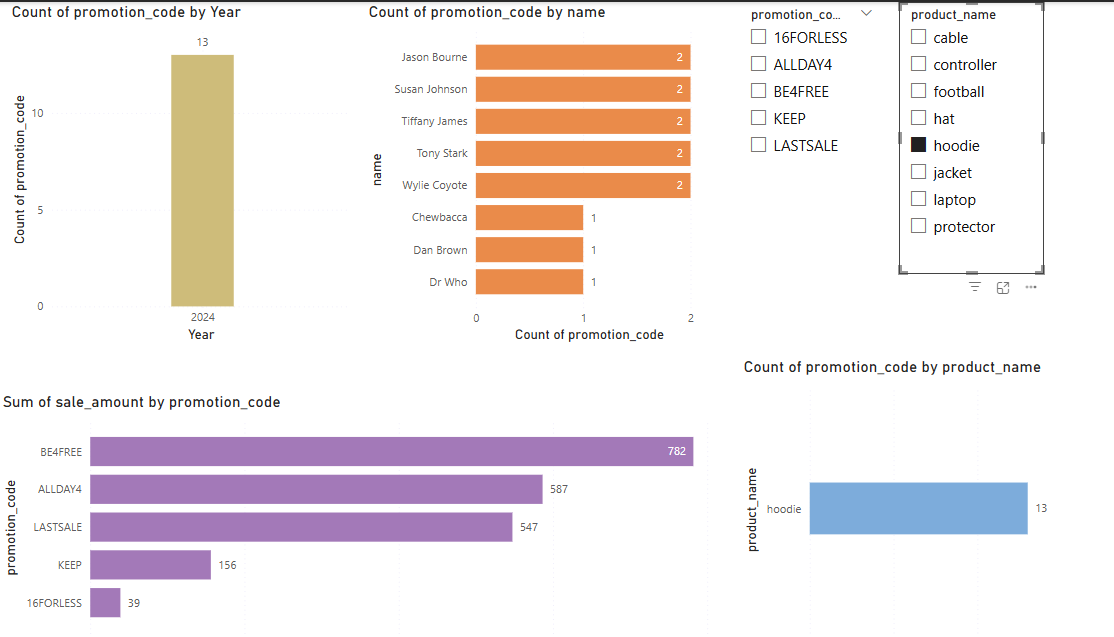

Layout of this report page (visuals, bound fields, positions):
{"tool":"powerbi","page":{"name":"P6 and Promotion Codes","canvas":[1280,720],"ordinal":0},"visuals":[{"type":"columnChart","fields":{"Category":["sale.Year_dt.Variation.Date Hierarchy.Year","sale.Quarter_dt.Variation.Date Hierarchy.Quarter","sale.month_name_dt.Variation.Date Hierarchy.Month","sale.month_name_dt.Variation.Date Hierarchy.Day"],"Y":["CountNonNull(sale.promotion_code)"]},"box":[9.7,0,372.5,369.6],"z":0},{"type":"clusteredBarChart","fields":{"Category":["sale.promotion_code"],"Y":["Sum(sale.sale_amount)"]},"box":[0,418.4,788.3,301.1],"z":1000},{"type":"clusteredBarChart","fields":{"Category":["customer.name"],"Y":["CountNonNull(sale.promotion_code)"]},"box":[393,0,373,370],"z":2000},{"type":"clusteredBarChart","fields":{"Category":["product.product_name"],"Y":["CountNonNull(sale.promotion_code)"]},"box":[794.7,381.3,344.3,338.5],"z":3000},{"type":"slicer","fields":{"Values":["sale.promotion_code"]},"box":[794.7,0,155.6,176],"z":4000},{"type":"slicer","fields":{"Values":["product.product_name"]},"box":[966.5,0,155.6,292.1],"z":5000}]}

Visuals, with their boxes in screenshot pixels (x1, y1, x2, y2), scaled from the page's 1280x720 canvas onto the 1114x637 screenshot:
columnChart - sale.Year_dt.Variation.Date Hierarchy.Year x sale.Quarter_dt.Variation.Date Hierarchy.Quarter: 8, 0, 333, 327
clusteredBarChart - sale.promotion_code x Sum(sale.sale_amount): 0, 370, 686, 636
clusteredBarChart - customer.name x CountNonNull(sale.promotion_code): 342, 0, 667, 327
clusteredBarChart - product.product_name x CountNonNull(sale.promotion_code): 692, 337, 991, 636
slicer - sale.promotion_code: 692, 0, 827, 156
slicer - product.product_name: 841, 0, 977, 258
